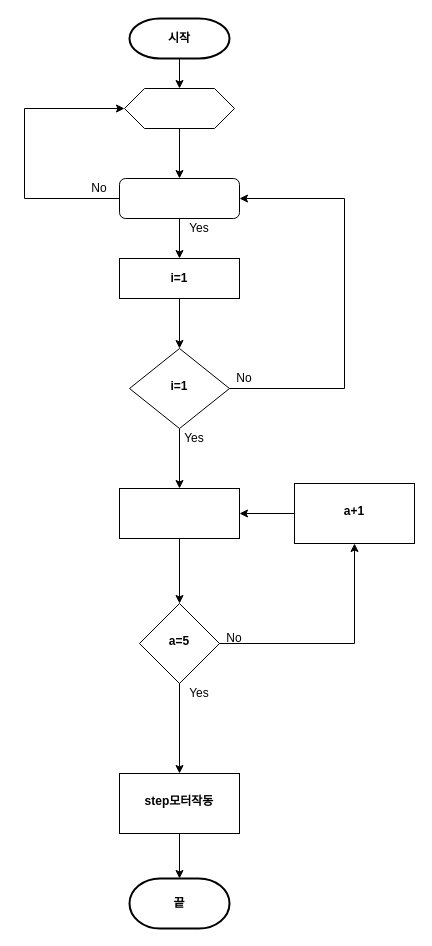
Some shapes in this 432 by 946 pixel diagram are drawn without their labels. Each missing label, with the centre of its shape:
i=0: point 179,108
서보모터작동: point 179,513
진동 센서 작동: point 179,198
